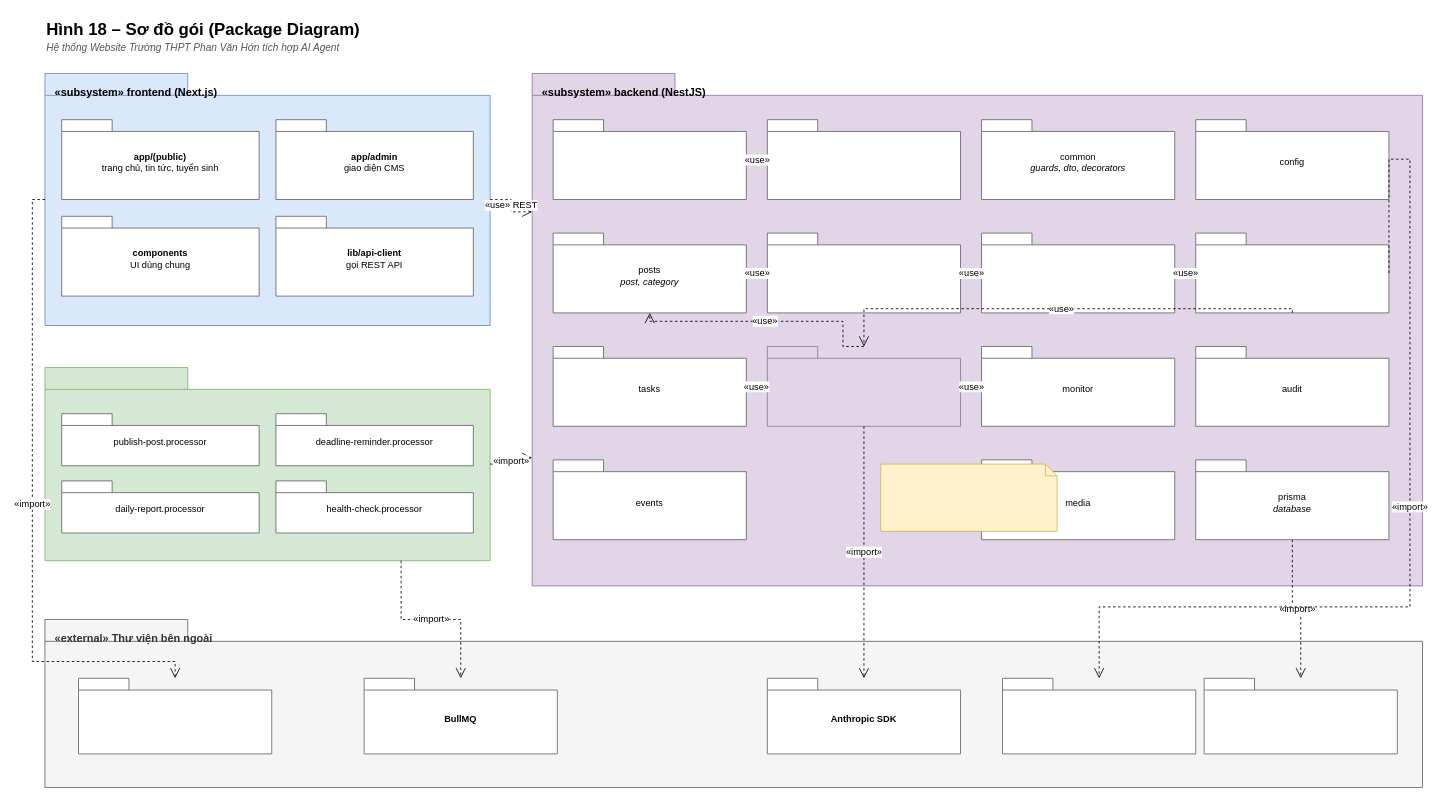
Image size: 1442x802. Some labels were removed from this diagram. The box of each missing label's shape, as (x1, y1, x2, y2) in pixels:
agent core, tools, llm: (766, 346, 961, 426)
auth: (552, 119, 746, 200)
grammY (Telegram): (1002, 677, 1196, 754)
Mọi module backend đều phụ thuộc common , config , prisma (lược bớt mũi tên).: (880, 463, 1057, 531)
Next.js / React: (78, 677, 272, 754)
notifications: (981, 232, 1175, 313)
Prisma Client: (1203, 677, 1397, 754)
scheduler: (766, 232, 961, 313)
telegram: (1195, 232, 1389, 313)
users: (766, 119, 961, 200)
«subsystem» worker (BullMQ): (44, 367, 490, 561)
